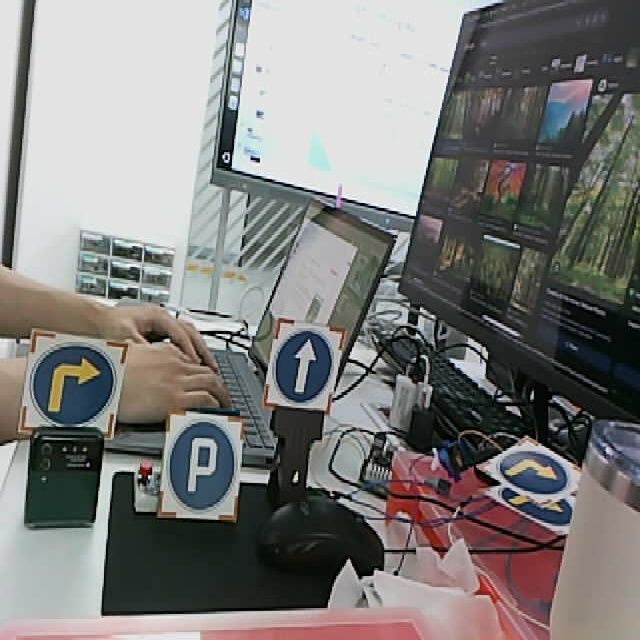parking: (159, 410, 245, 522)
right: (17, 330, 129, 442), (476, 436, 582, 504), (484, 484, 578, 536)
straight: (264, 319, 347, 416)
